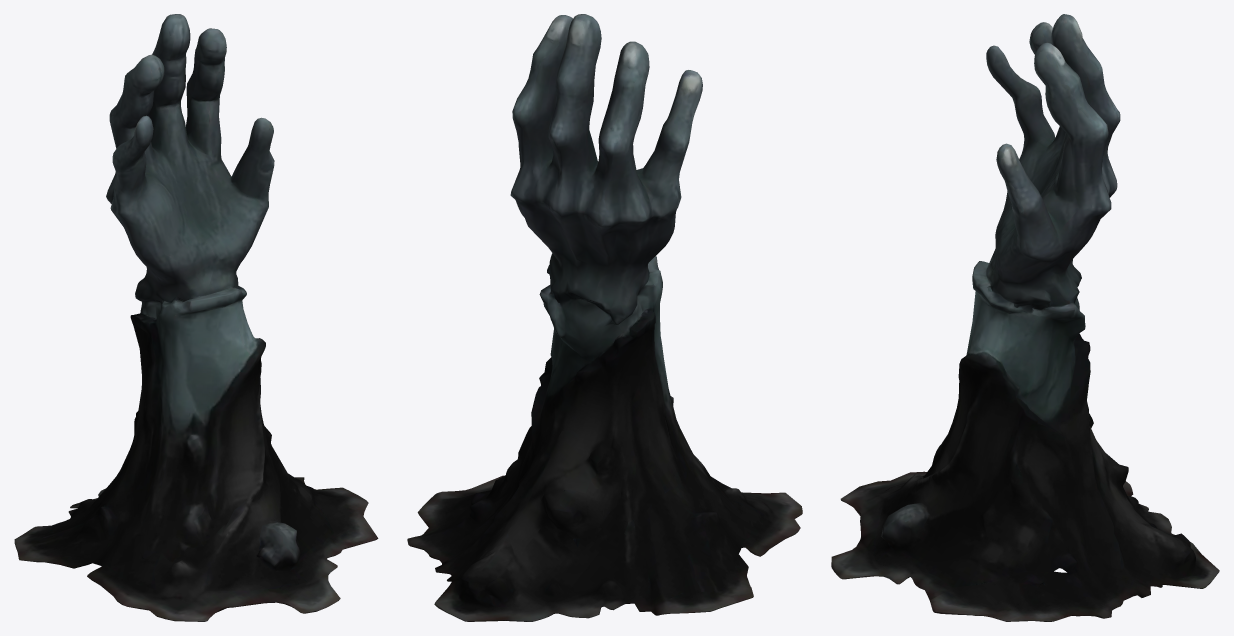
The model's file is ashhand.glb.
The picture shows the model from 3 angles, left to right: view 1: azimuth 30°, elevation 25°; view 2: azimuth 150°, elevation 25°; view 3: azimuth 270°, elevation 25°; orthographic projection. The views are drawn at different scales.
Visible parts, largest first — view 1: geometry_0; view 2: geometry_0; view 3: geometry_0.
Part boxes in pixels (x1,y1,x2,y2): geometry_0: (14,14,378,621); geometry_0: (407,14,802,621); geometry_0: (831,14,1219,621).
Size of the model in its own units: 0.648 by 1 by 0.657.
1 material, 1 textured.
